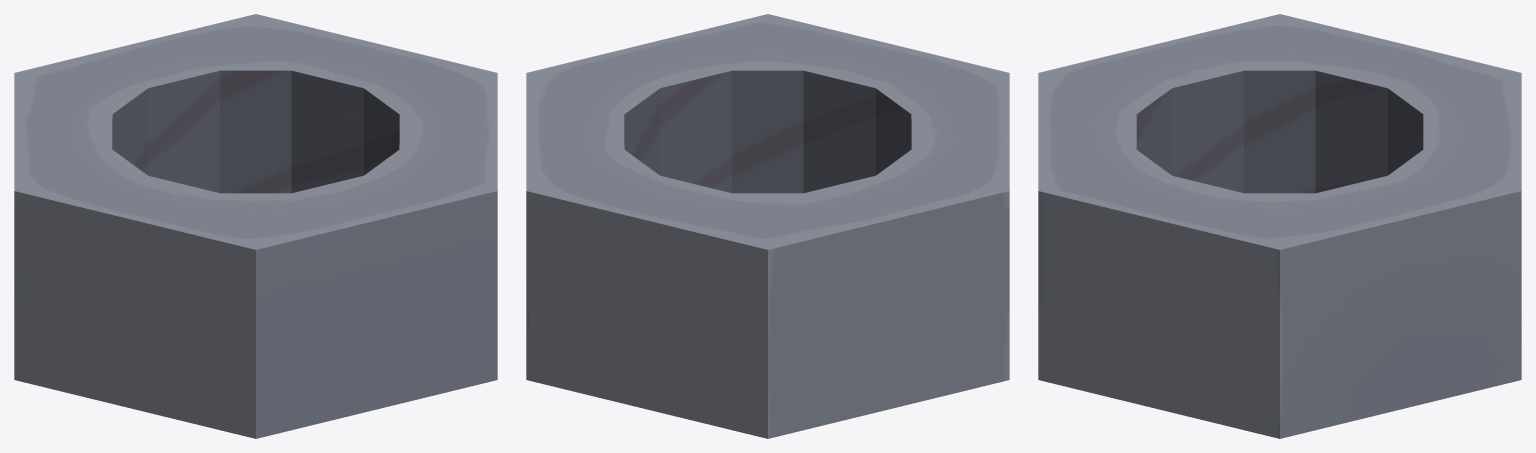
Rendered from env_nut_screw_export_01.fbx.
3 renders of one model, left to right at view 1: azimuth 30°, elevation 25°; view 2: azimuth 150°, elevation 25°; view 3: azimuth 270°, elevation 25°, orthographic.
Visible parts, largest first — view 1: pCylinder1; view 2: pCylinder1; view 3: pCylinder1.
Boxes of the visible parts, x1,y1,x2,y2 form: pCylinder1: (14,14,497,438); pCylinder1: (526,14,1009,438); pCylinder1: (1038,14,1521,438).
Size of the model in its own units: 3.62 by 1.35 by 3.13.
1 material, 1 textured.
